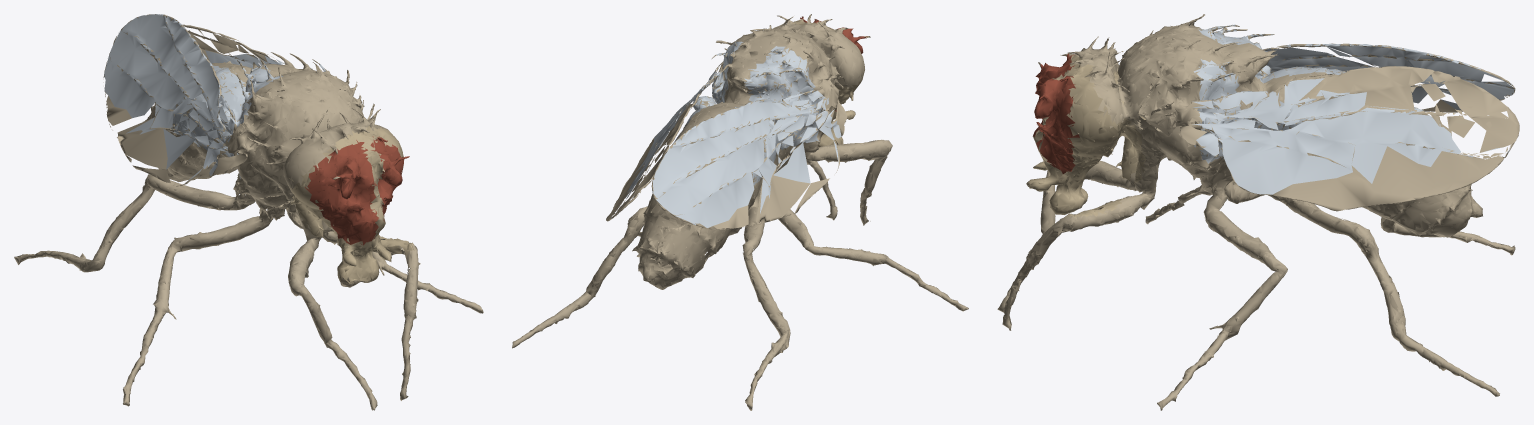
The model's file is fly.glb.
The picture shows the model from 3 angles, left to right: view 1: azimuth 30°, elevation 25°; view 2: azimuth 150°, elevation 25°; view 3: azimuth 270°, elevation 25°; orthographic projection. The views are drawn at different scales.
Visible parts, largest first — view 1: body, wingL, eyes, head, wingR; view 2: body, wingL, wingR, head; view 3: body, wingR, head, wingL, eyes.
Boxes of the visible parts, bbox=[...] form: body: bbox=[14, 14, 483, 410]; wingL: bbox=[103, 14, 282, 182]; eyes: bbox=[305, 136, 409, 245]; head: bbox=[288, 126, 414, 283]; wingR: bbox=[205, 50, 326, 71]; body: bbox=[512, 14, 968, 410]; wingL: bbox=[652, 46, 841, 227]; wingR: bbox=[611, 41, 743, 218]; head: bbox=[779, 19, 864, 147]; body: bbox=[997, 14, 1519, 410]; wingR: bbox=[1192, 59, 1509, 194]; head: bbox=[1026, 54, 1150, 219]; wingL: bbox=[1198, 24, 1514, 112]; eyes: bbox=[1033, 53, 1079, 174].
Bounding box in the file's own units: 1.75 × 1.27 × 2.03.
